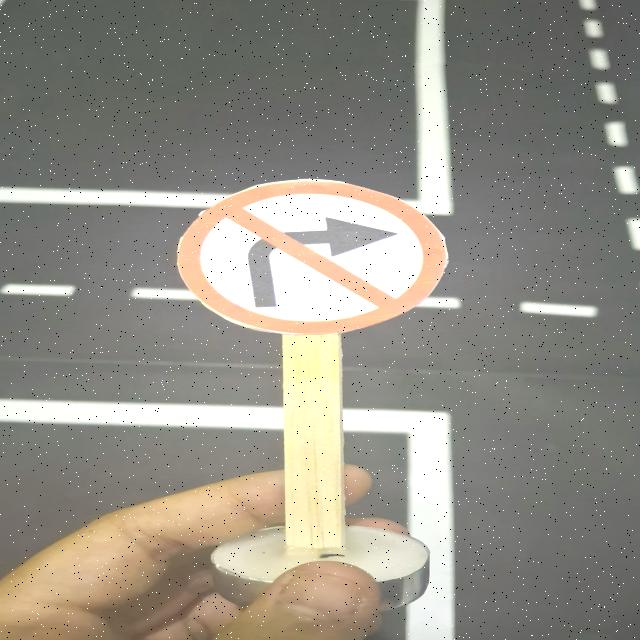Dilarang Belok Kanan: (178, 180, 448, 335)
